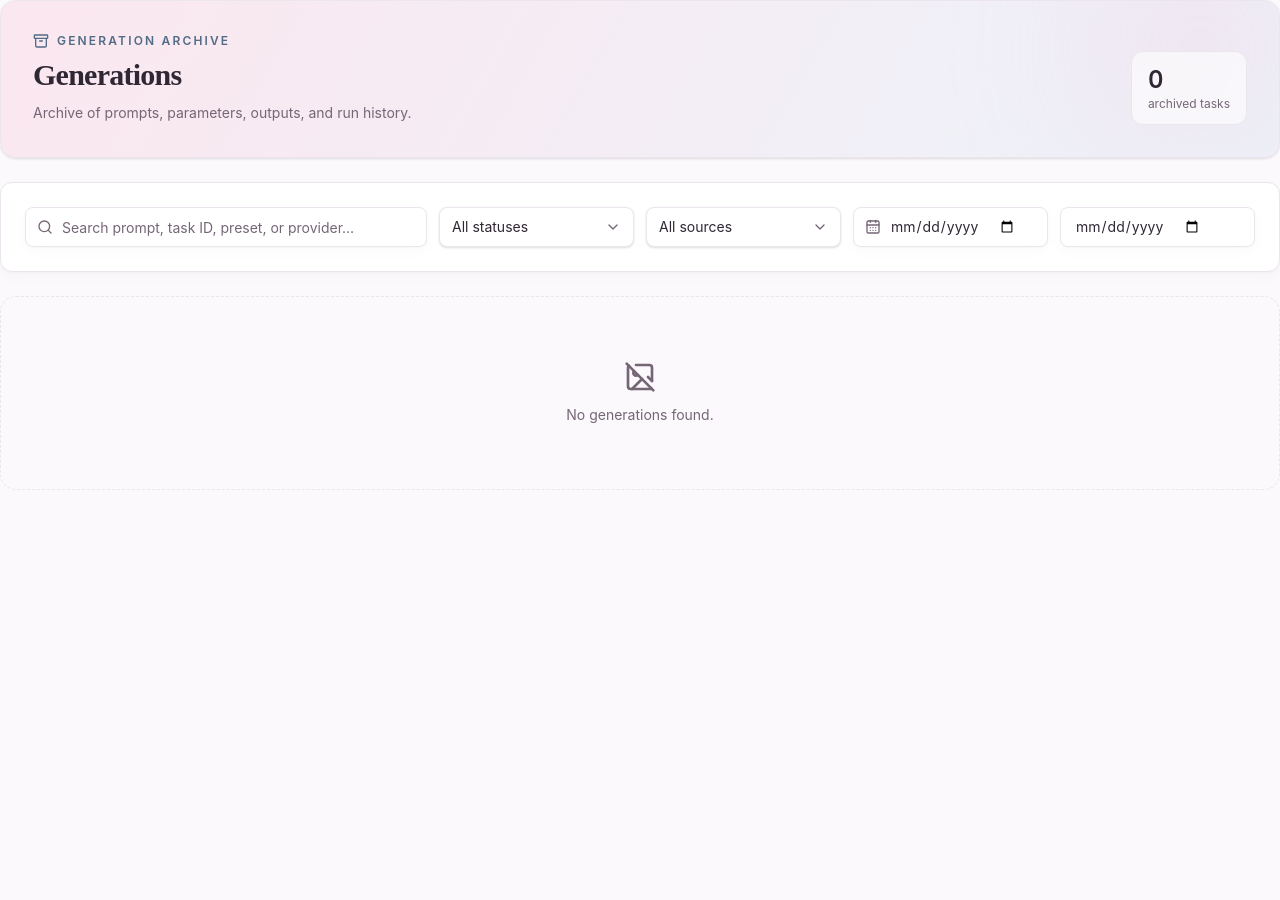
Test: does not let a delayed old search response replace the current scope
Type "old" into the field labelled "Search prompt, task ID, preset, or provider…" at coordinates (226, 227), box [25, 207, 427, 247]
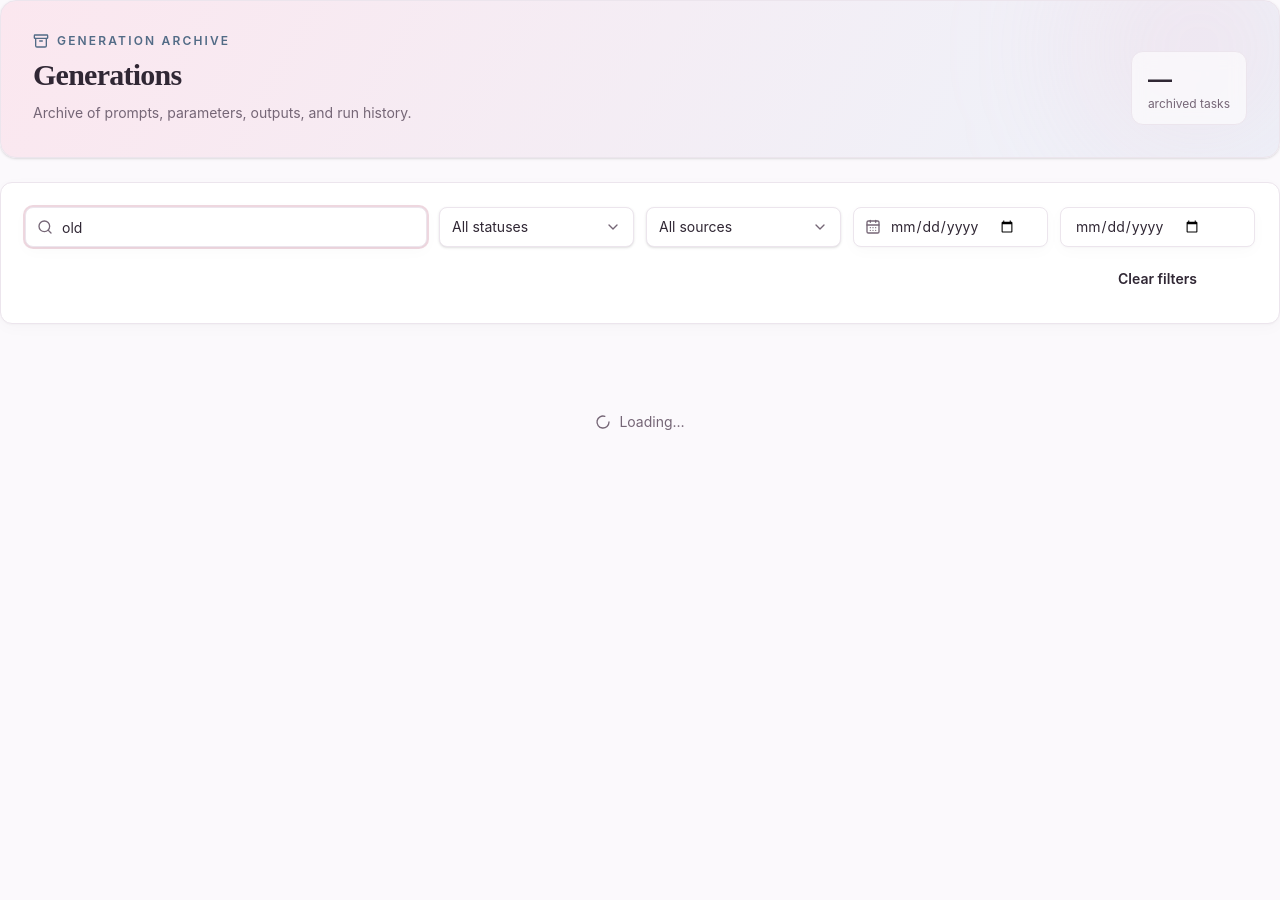
Replace the text in the field named "Search prompt, task ID, preset, or provider…" with "new" at coordinates (226, 227), box [25, 207, 427, 247]
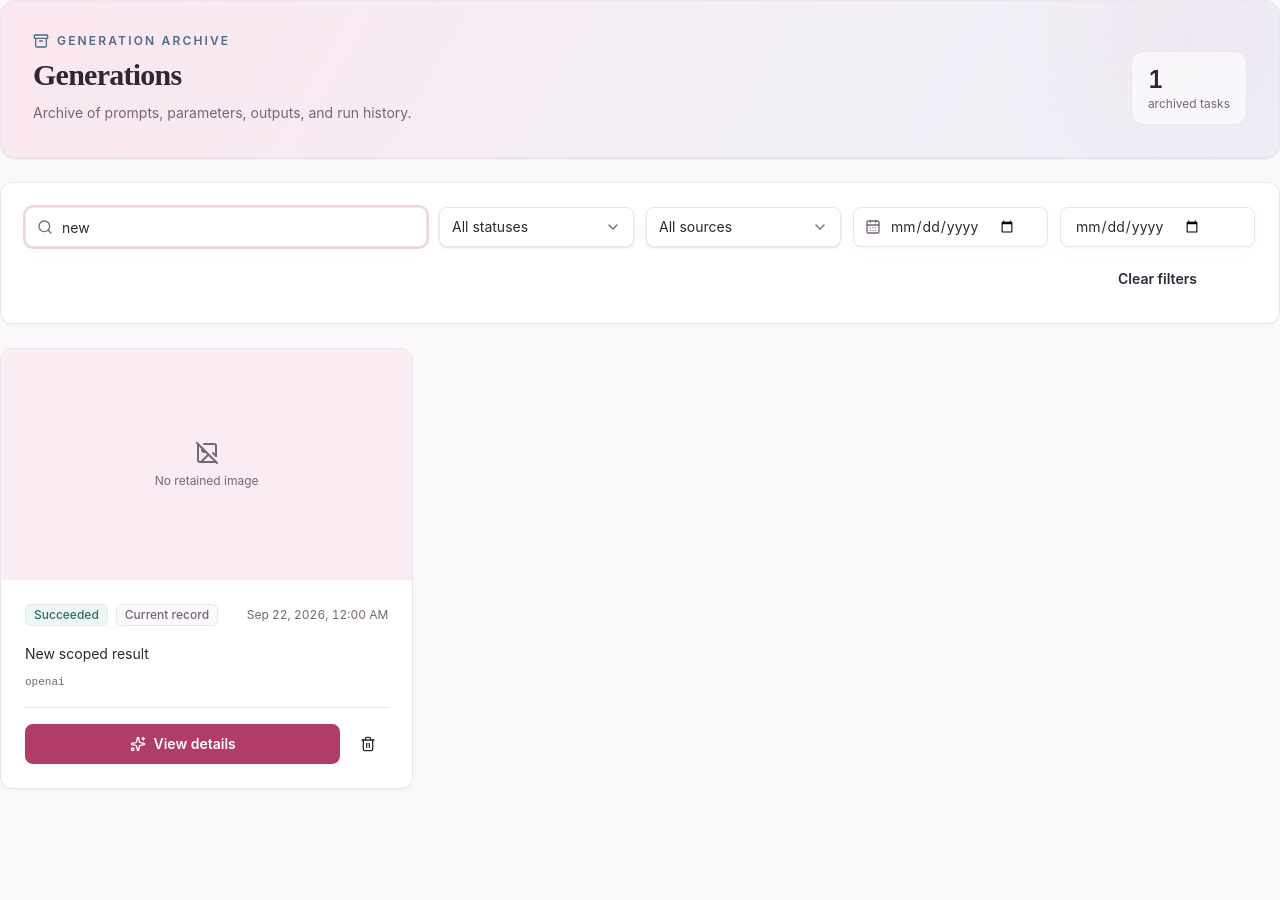
Expected: the text "New scoped result" is shown, [25, 645, 149, 662]
